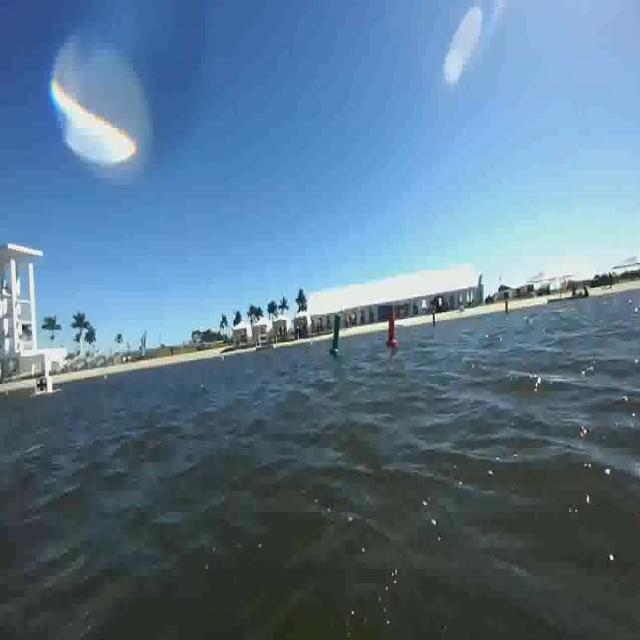green-column-buoy: (324, 301, 348, 367)
red-column-buoy: (384, 312, 396, 350)
